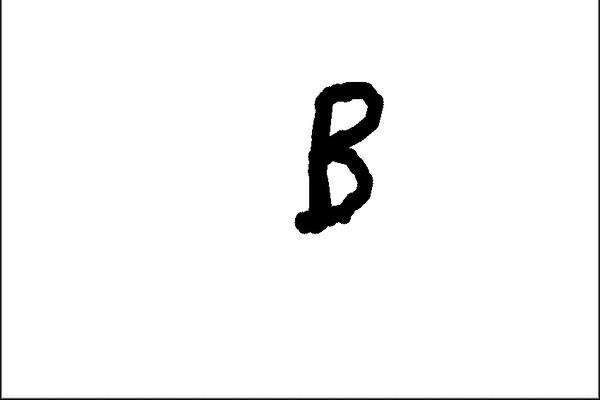B: (287, 76, 387, 239)
